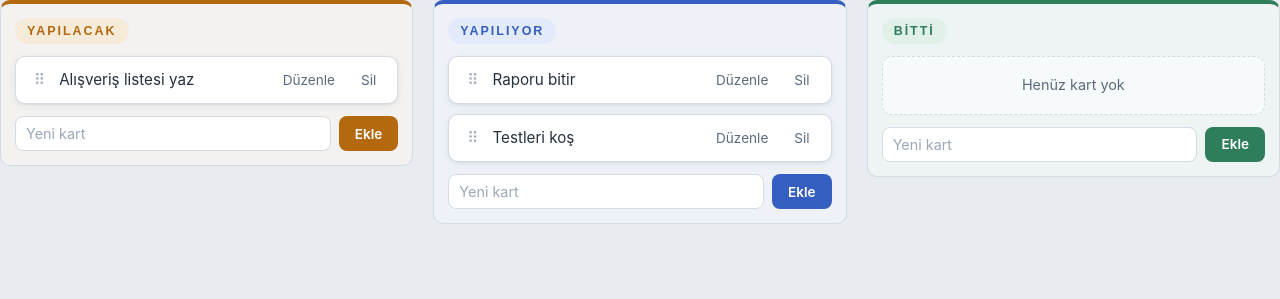
Test case: kart yalnızca kendi kolonuna eklenir
Type "Ara görev" into the field named "Yapılıyor kolonuna yeni kart". click: (606, 192)
box: [448,174,764,209]
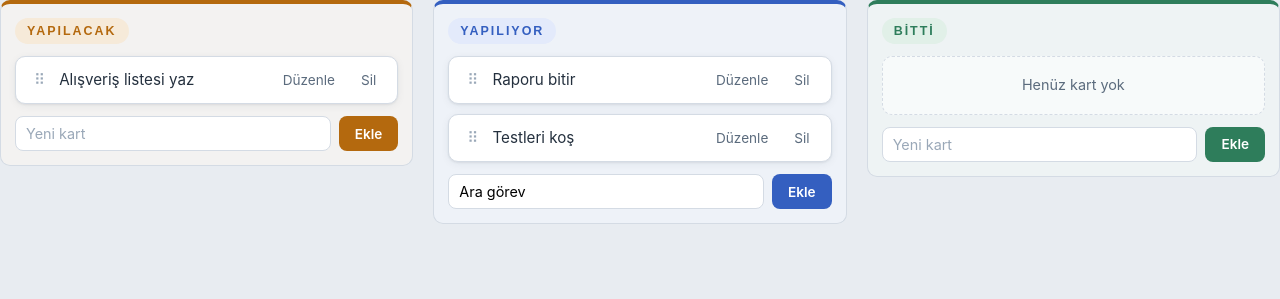
Click the button "Ekle" below "Testleri koş". click: (802, 192)
box: [772,174,832,209]
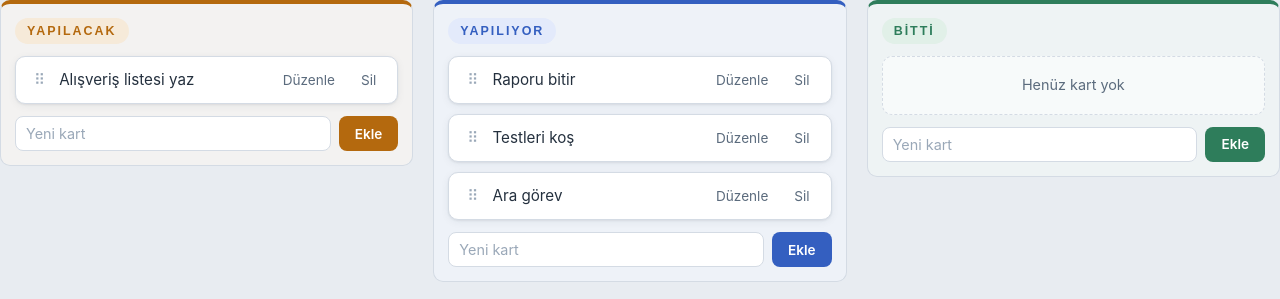
Expected: the text "Ara görev" is shown, [492,186,562,205]
